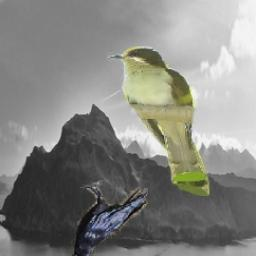Crow: (66, 181, 149, 256)
Cuckoo: (108, 46, 211, 196)
